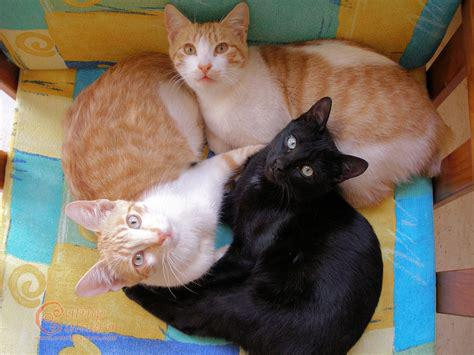cat: (123, 98, 382, 355), (164, 2, 449, 205), (63, 53, 262, 295)
